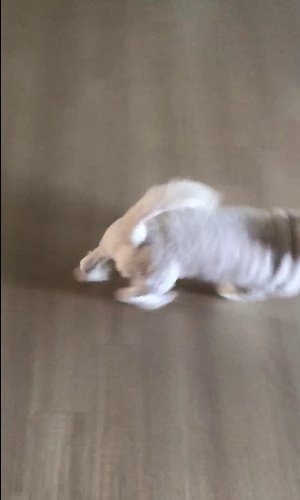ddubi: (70, 175, 300, 311)
